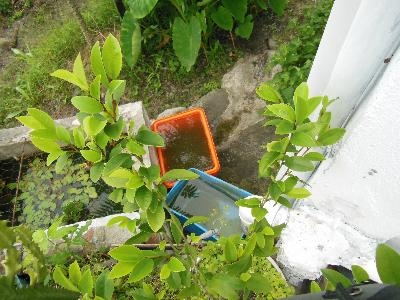box: (166, 168, 264, 241), (150, 108, 222, 188)
